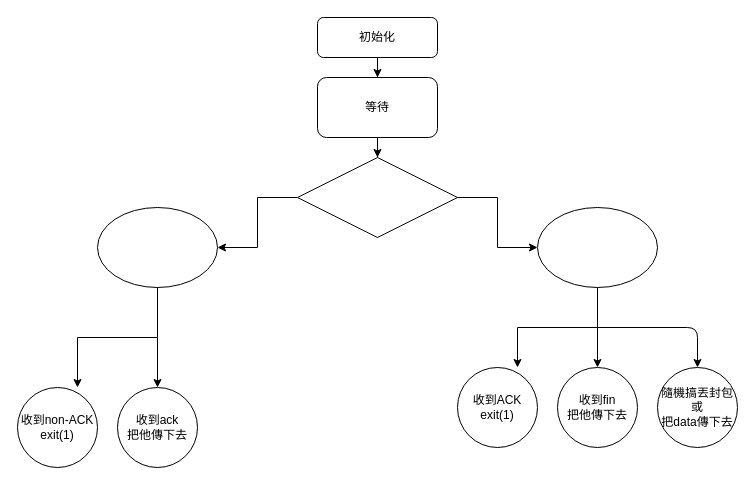
This 755x485 diagram has some shape labels left out. Here are the shapes that lost their labels. From the top down, the centre of each, then its label:
At point 377,197: "判斷Segment 從Reciver或Sender".
At point 157,247: "Receiver".
At point 597,247: "Sender".
